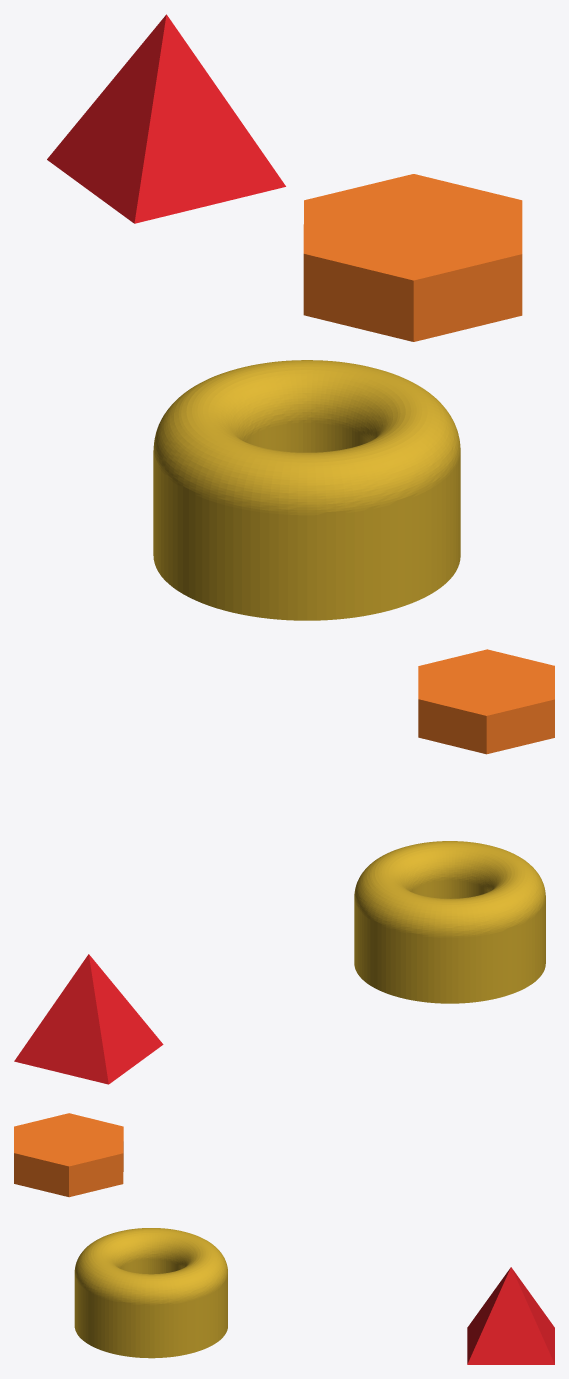
3 renders of one model, top to bottom at view 1: azimuth 30°, elevation 25°; view 2: azimuth 150°, elevation 25°; view 3: azimuth 270°, elevation 25°, orthographic. The views are drawn at different scales.
Size of the model in its own units: 0.1127 by 0.0964 by 0.2467.
